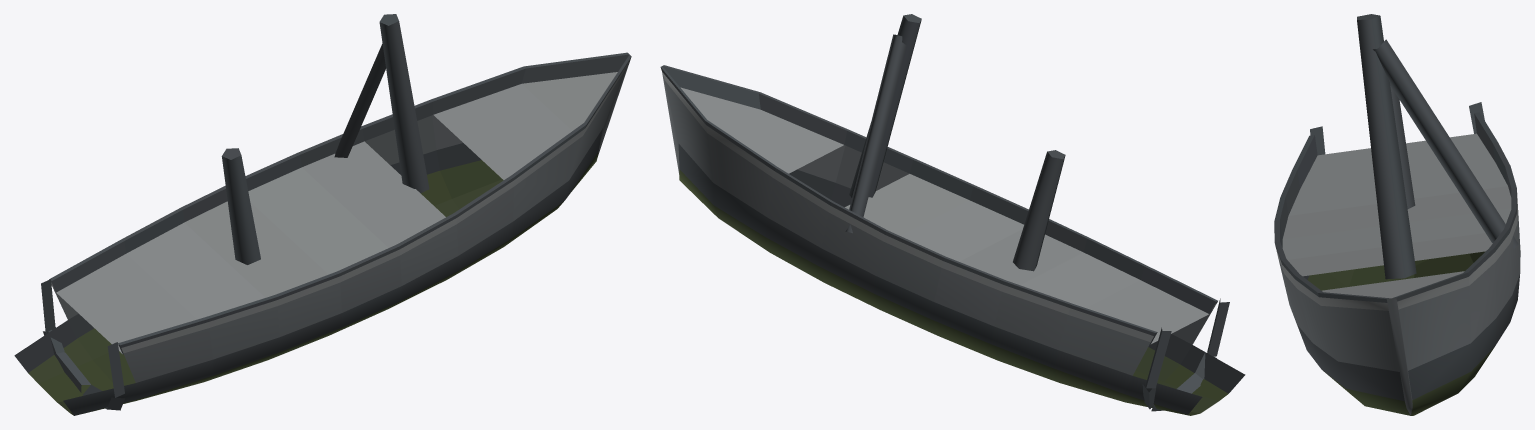
Rendered from wreck_b.glb.
3 renders of one model, left to right at view 1: azimuth 30°, elevation 25°; view 2: azimuth 150°, elevation 25°; view 3: azimuth 270°, elevation 25°, orthographic. The views are drawn at different scales.
Visible parts, largest first — view 1: hull; view 2: hull; view 3: hull.
Part boxes in pixels (box(x1,y1,x2,y2)): hull: box(14, 14, 631, 415); hull: box(660, 14, 1245, 415); hull: box(1274, 14, 1520, 415).
Bounding box in the file's own units: 15.81 × 8.35 × 4.59.
